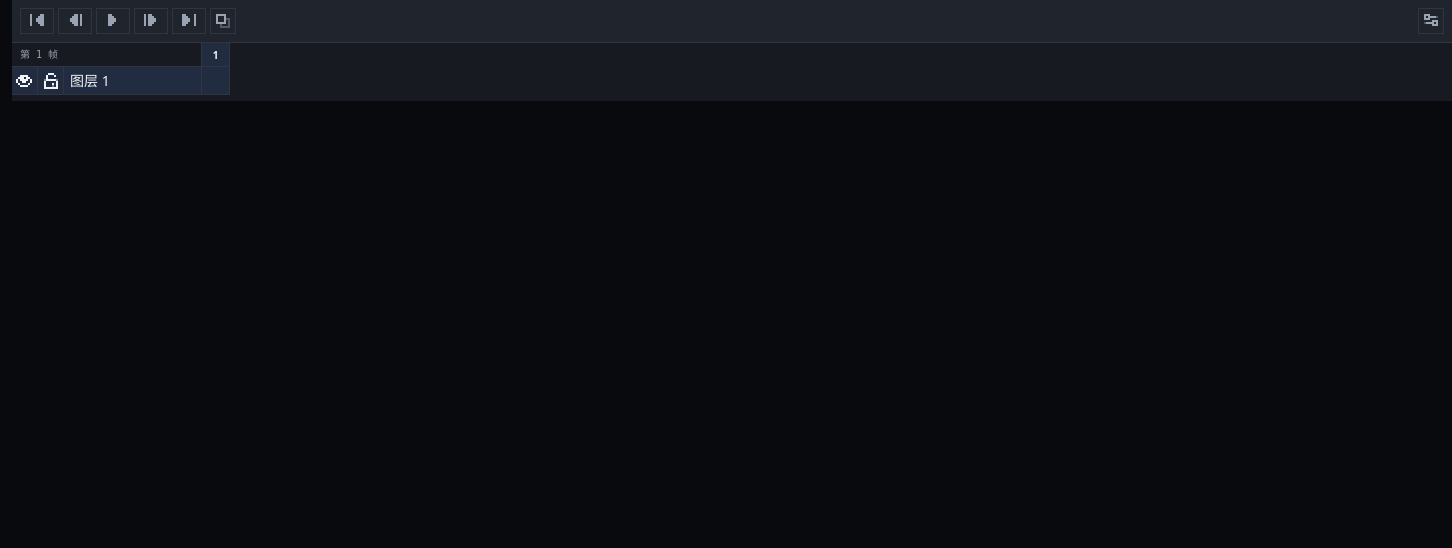
Scenario: LayersPanel animation › can keep frame and layer edit buttons while docked on either side
Click the button named "图层设置" at (1431, 21), box left=1418, top=8, right=1444, bottom=34
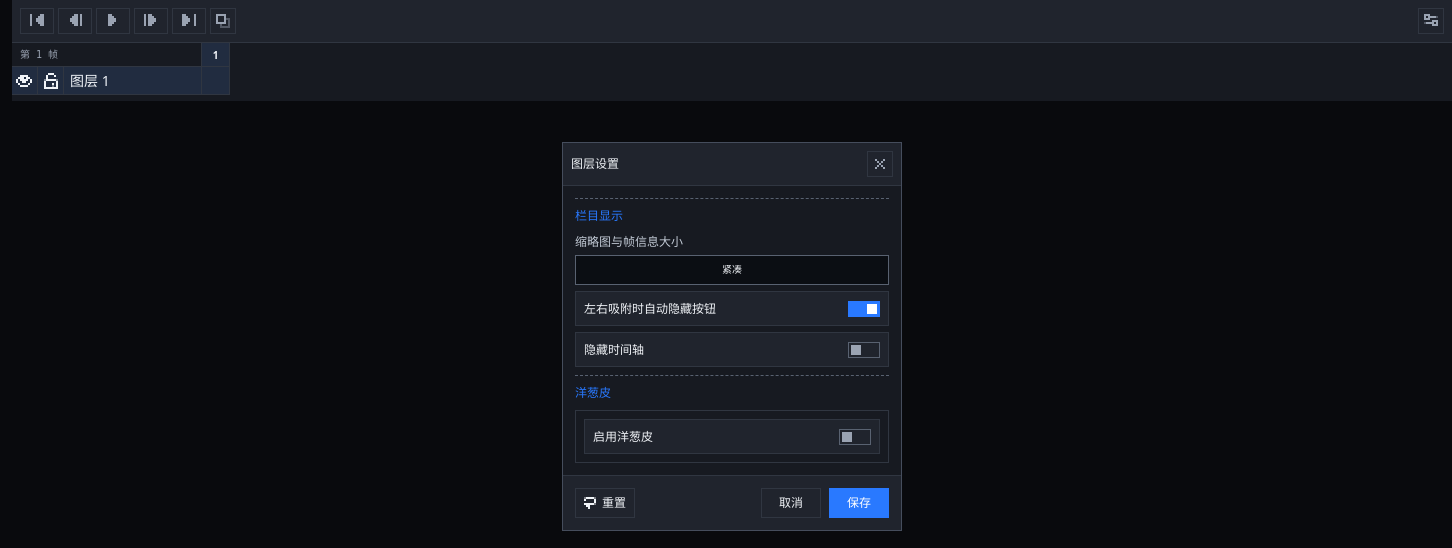
Click the checkbox labelled "左右吸附时自动隐藏按钮" at (650, 308), box left=575, top=291, right=889, bottom=326
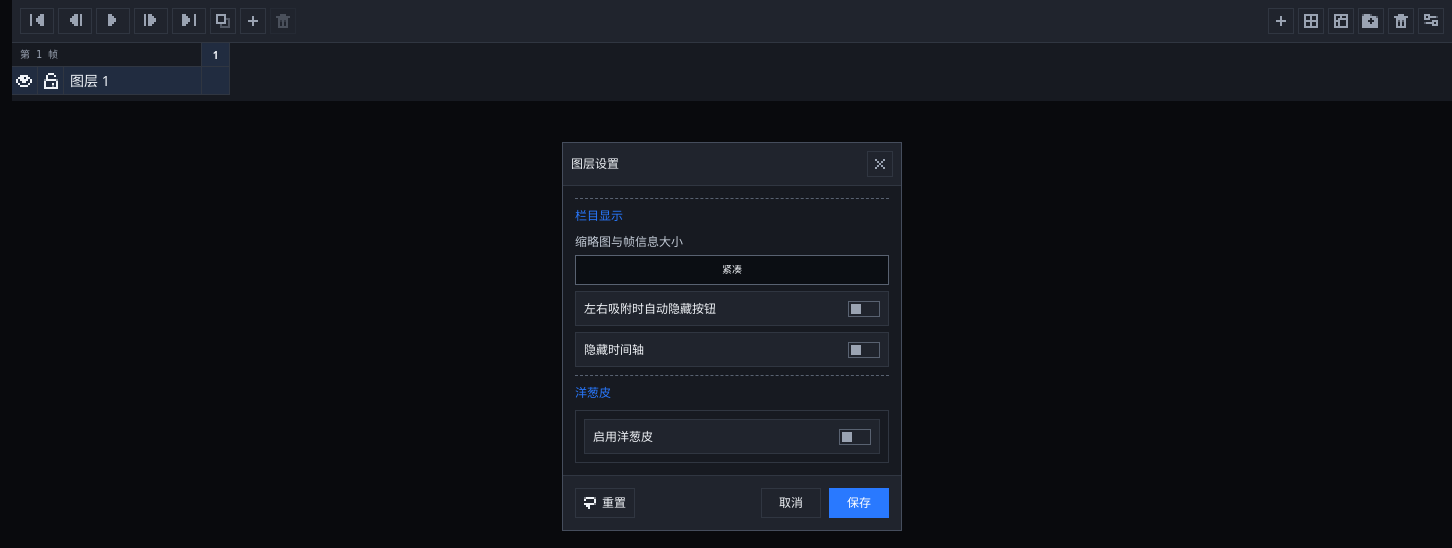
Expected: the number of buttons with class "timeline-frame-edit-button" is 2, left=240, top=8, right=266, bottom=34; left=270, top=8, right=296, bottom=34
Expected: the number of buttons with class "layer-structure-edit-button" is 5, left=1268, top=8, right=1294, bottom=34; left=1298, top=8, right=1324, bottom=34; left=1328, top=8, right=1354, bottom=34; left=1358, top=8, right=1384, bottom=34; left=1388, top=8, right=1414, bottom=34
